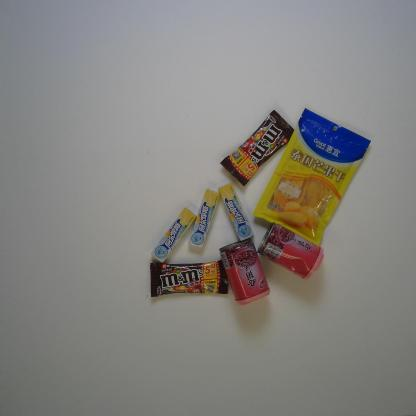Candy: (151, 207, 197, 263), (219, 183, 254, 241), (188, 189, 220, 248)
Canned Food: (257, 221, 326, 280), (219, 238, 270, 306)
Chocolate: (220, 109, 294, 187), (150, 260, 229, 298)
Dried Fruit: (252, 108, 371, 247)
